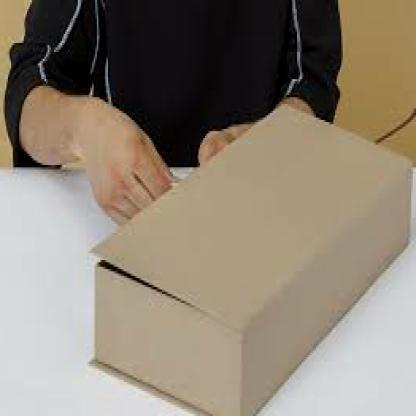box: (83, 99, 415, 414)
